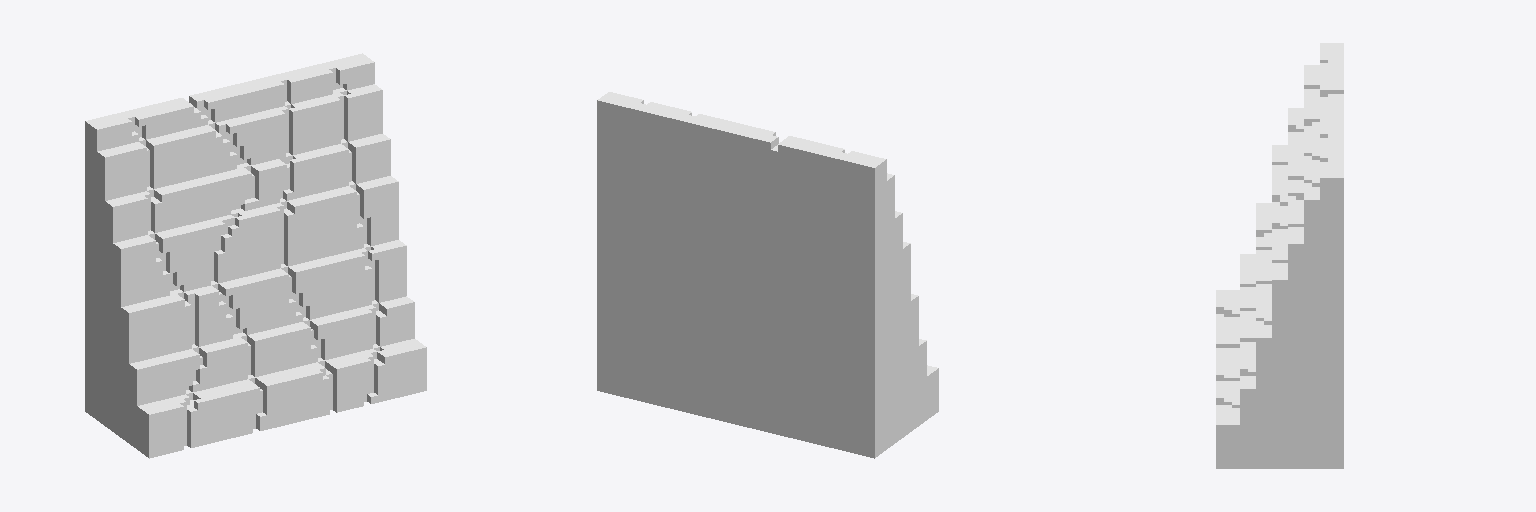
Rendered from game_barrier.obj.
The picture shows the model from 3 angles: view 1: azimuth 30°, elevation 25°; view 2: azimuth 150°, elevation 25°; view 3: azimuth 270°, elevation 25°; orthographic projection.
Visible parts, largest first — view 1: object 1; view 2: object 1; view 3: object 1.
Boxes of the visible parts, x1=… form: object 1: x1=85, y1=53, x2=426, y2=458; object 1: x1=597, y1=92, x2=938, y2=458; object 1: x1=1216, y1=43, x2=1343, y2=468.
Size of the model in its own units: 4 by 4 by 1.6.